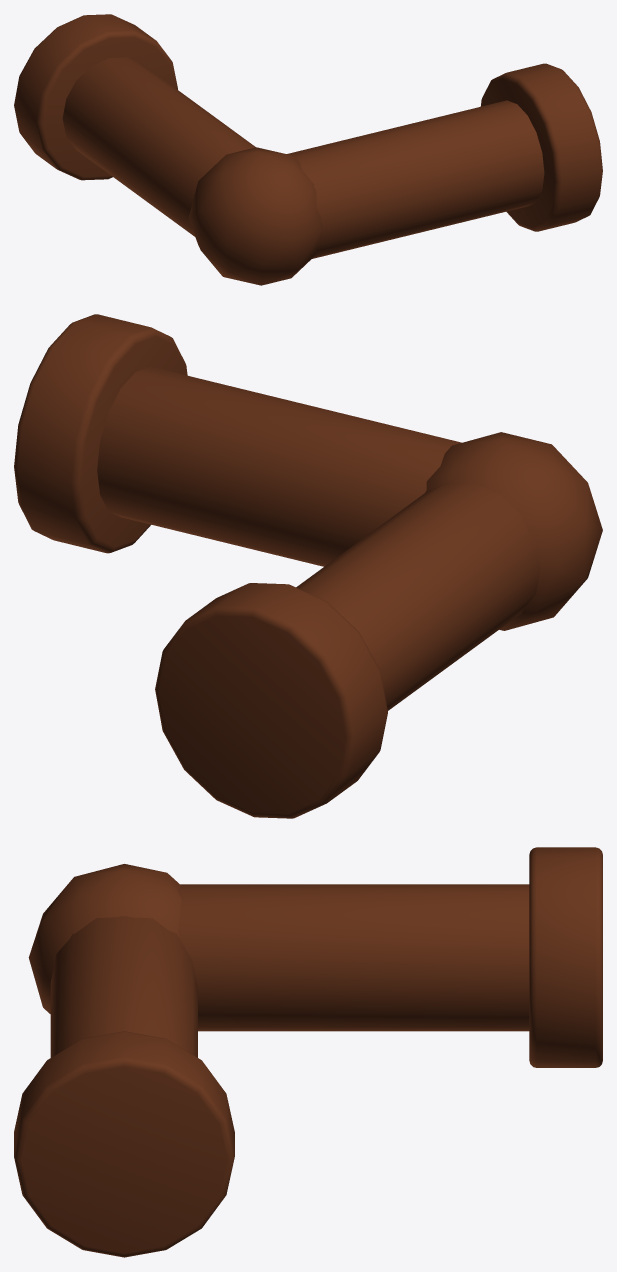
The model's file is BB_PROP_Pipe_Elbow90.obj.
3 renders of one model, top to bottom at view 1: azimuth 30°, elevation 25°; view 2: azimuth 150°, elevation 25°; view 3: azimuth 270°, elevation 25°, orthographic. The views are drawn at different scales.
Visible parts, largest first — view 1: BB_PROP_Pipe_Elbow90; view 2: BB_PROP_Pipe_Elbow90; view 3: BB_PROP_Pipe_Elbow90.
Boxes of the visible parts, bbox=[...] form: BB_PROP_Pipe_Elbow90: bbox=[14, 14, 602, 285]; BB_PROP_Pipe_Elbow90: bbox=[14, 314, 602, 818]; BB_PROP_Pipe_Elbow90: bbox=[14, 847, 602, 1257].
Size of the model in its own units: 0.8 by 0.3 by 0.8.
